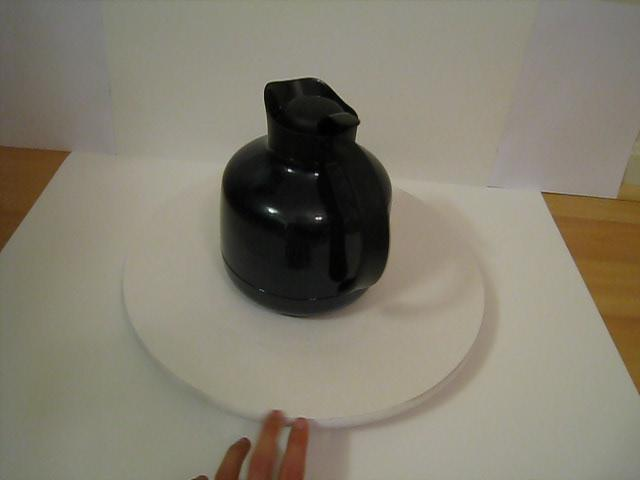pitcher: (219, 66, 400, 336)
